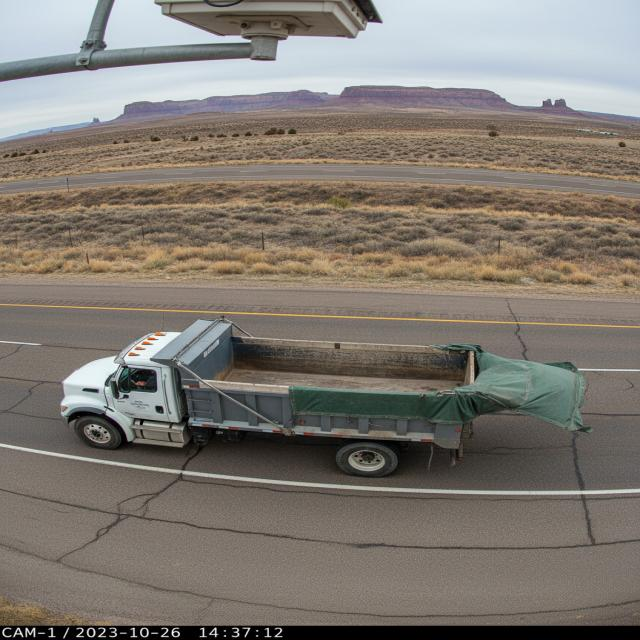Box: (153, 314, 498, 408)
Truck: (53, 298, 595, 471)
